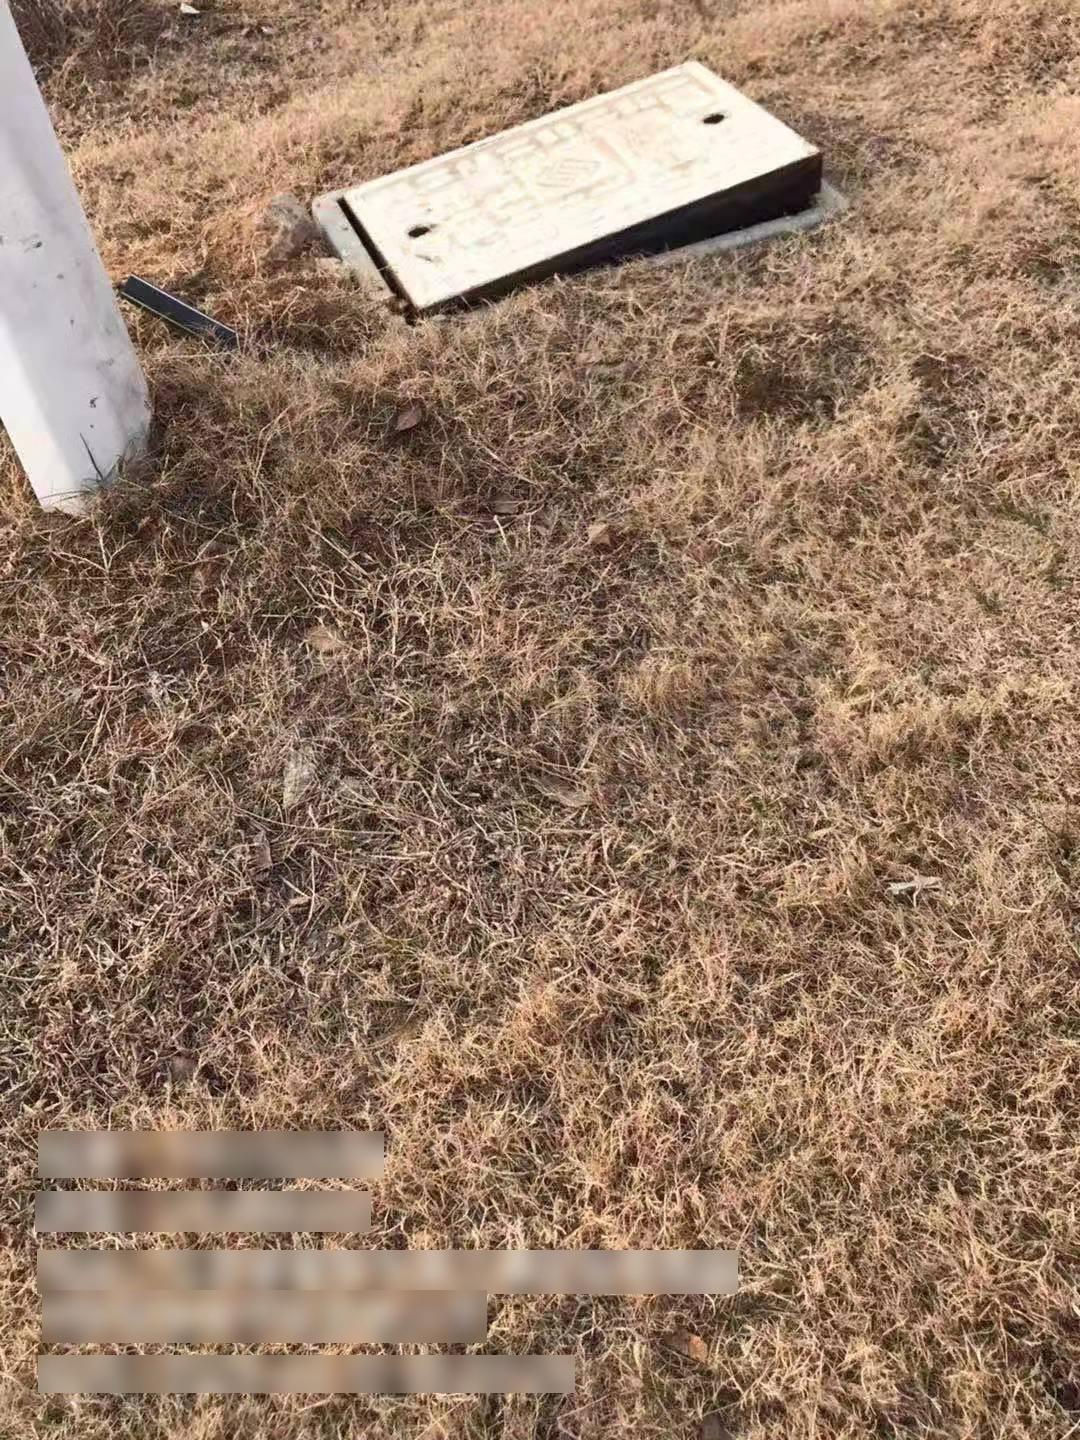wellcover: (303, 45, 850, 322)
